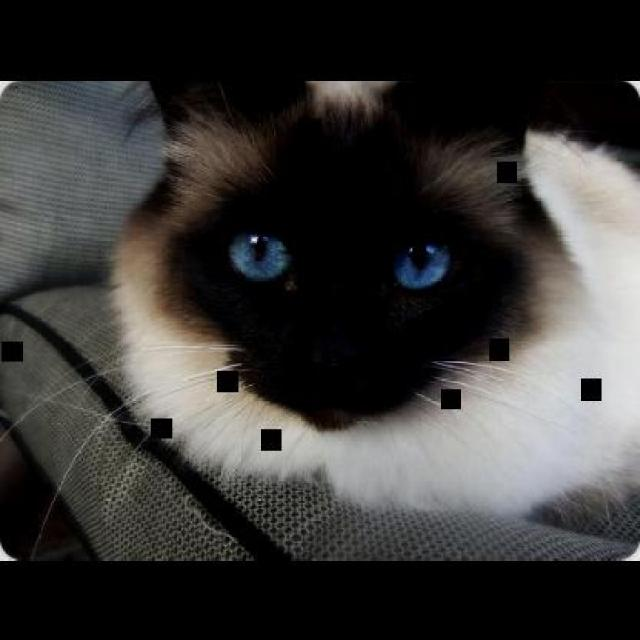unauthorized: (101, 74, 638, 548)
